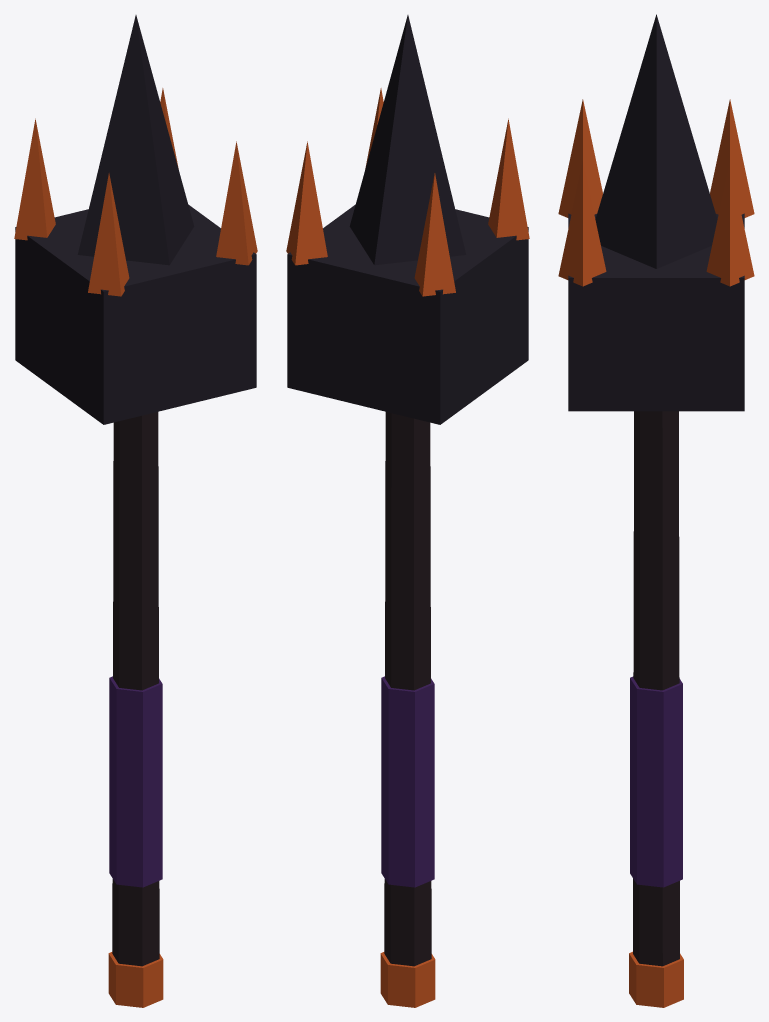
Rendered from weapon_warhammer.glb.
The picture shows the model from 3 angles, left to right: view 1: azimuth 30°, elevation 25°; view 2: azimuth 150°, elevation 25°; view 3: azimuth 270°, elevation 25°; orthographic projection.
Visible parts, largest first — view 1: demon_weapon_warhammer; view 2: demon_weapon_warhammer; view 3: demon_weapon_warhammer.
Part boxes in pixels (bbox=[...]): demon_weapon_warhammer: bbox=[14, 15, 257, 1007]; demon_weapon_warhammer: bbox=[286, 15, 529, 1007]; demon_weapon_warhammer: bbox=[558, 14, 754, 1007].
Bounding box in the file's own units: 0.24 × 1.33 × 0.24.
